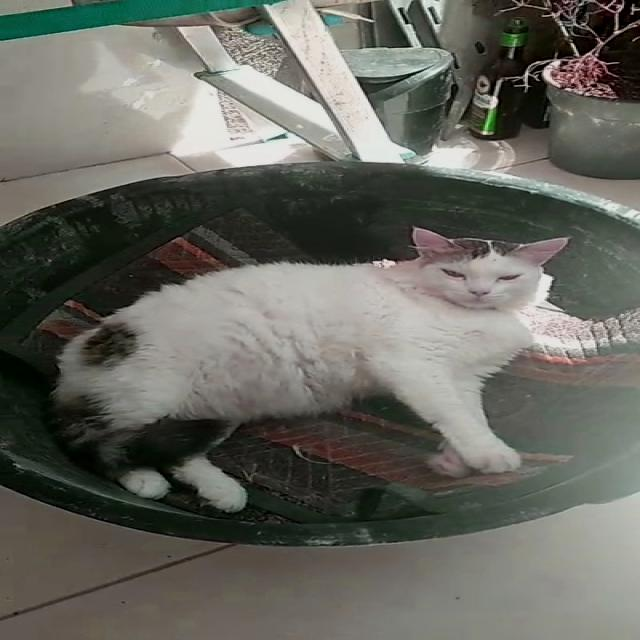Simba: (56, 210, 613, 516)
